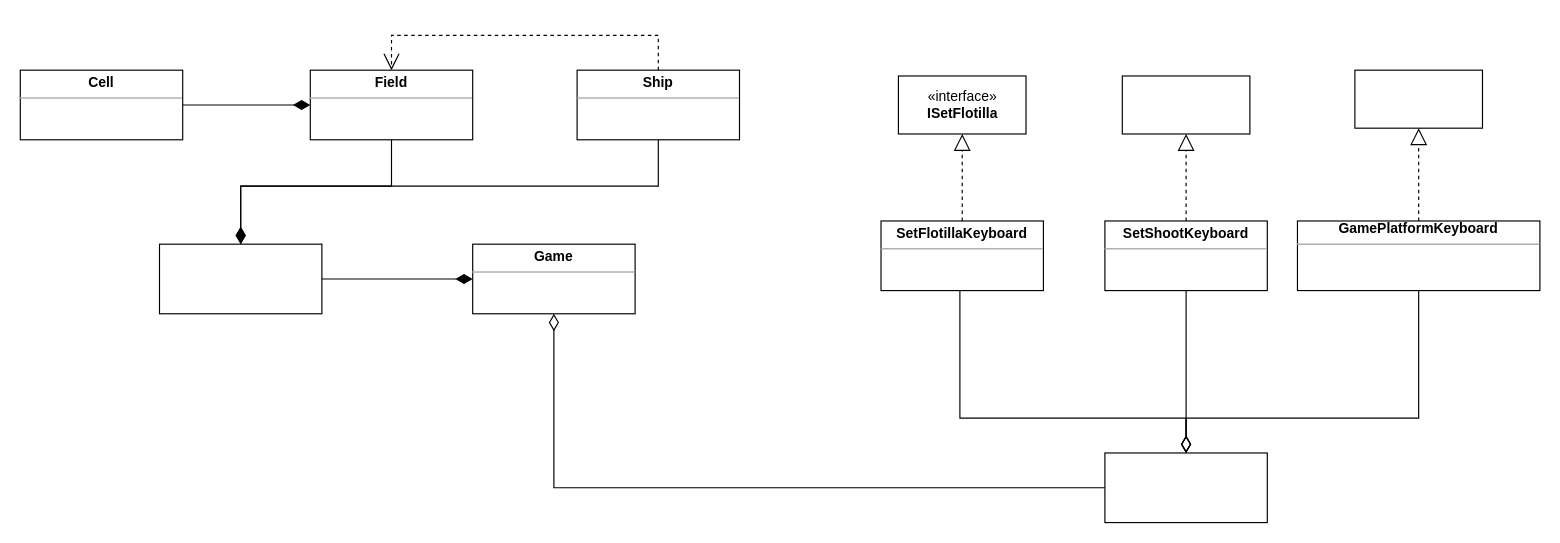
Image size: 1560x543. Some labels were removed from this diagram. Here are the shapes that lost their labels. From the top down, the centre of each, then its label:
pixel 1185 104: «interface» ISetShoot
pixel 1418 98: «interface» IGamePlatform
pixel 240 278: Player
pixel 1185 487: Platform
